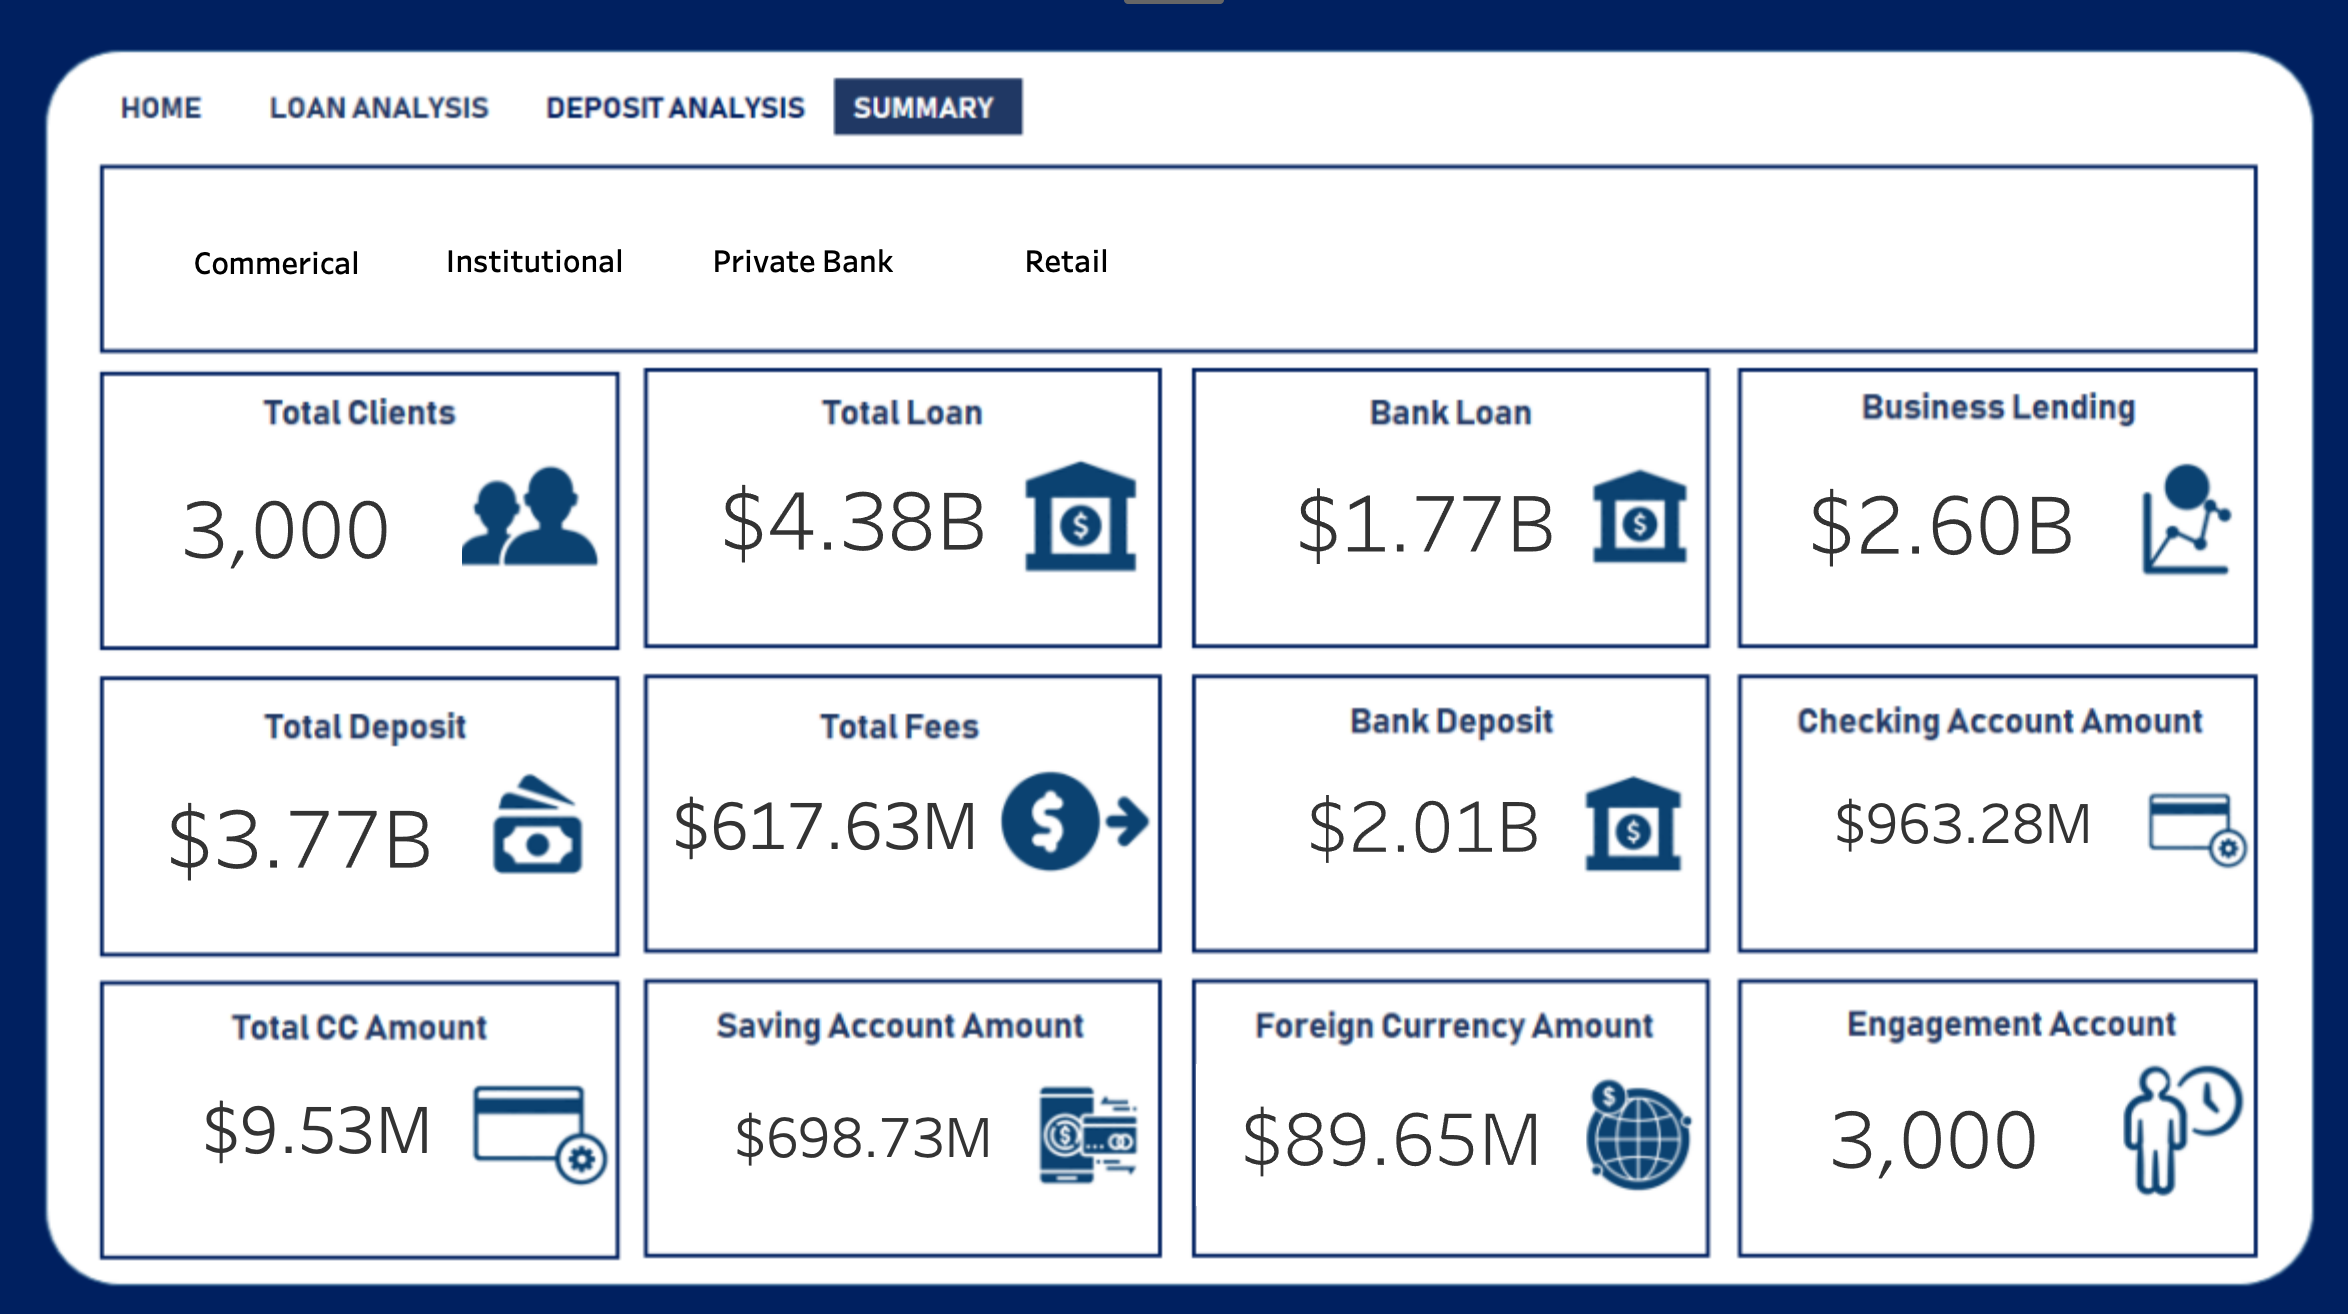

Layout of this report page (visuals, bound fields, positions):
{"tool":"tableau","page":{"name":"Summary","canvas":[1000,1000],"units":"permille","ordinal":3},"visuals":[{"type":"image","param":"Image/Summary.png","box":[6.3,10.8,987.4,978.4]},{"type":"text","box":[174.9,148.7,129.4,101.4]},{"type":"text","box":[284,148.7,129.4,101.4]},{"type":"text","box":[391.4,148.7,129.4,101.4]},{"type":"text","box":[70,150,129.4,101.4]},{"type":"worksheet","title":"T_loan","mark":"Automatic","box":[304.3,320.3,129.4,104]},{"type":"worksheet","title":"Client","mark":"Automatic","box":[67,321.6,130.8,112.2]},{"type":"worksheet","title":"BUSS_LENDG","mark":"Automatic","box":[745.3,329.7,132.6,91.9]},{"type":"worksheet","title":"BNK_LOAN","mark":"Automatic","box":[542.7,332.4,118,83.8]},{"type":"worksheet","title":"Total_Depo","mark":"Automatic","box":[62.2,541.9,151.3,114.9]},{"type":"worksheet","title":"Total_Fees","mark":"Automatic","box":[280.5,541.9,141.8,101.4]},{"type":"worksheet","title":"CC_AMT","mark":"Automatic","box":[746.3,547.3,148.2,87.8]},{"type":"worksheet","title":"BNK_DEOP","mark":"Automatic","box":[543,559.5,113.5,62.2]},{"type":"worksheet","title":"Client (2)","mark":"Automatic","box":[733.1,750,151.3,82.4]},{"type":"worksheet","title":"FF_CUR (2)","mark":"Automatic","box":[505.1,758.1,159.2,96]},{"type":"worksheet","title":"Total_CC_AMT","mark":"Automatic","box":[79.6,760.8,124.5,98.7]},{"type":"worksheet","title":"SAVG_ACC","mark":"Automatic","box":[316.8,777,111.9,68.9]}]}

Visuals, with their boxes on the dashboard's canvas, which has no fixed pixel size, in thousandths of its width and height (x1, y1, x2, y2). These are canvas units, not pixel positions in the 2348x1314 screenshot, which may show the page scaled, cropped or inside an application window:
image: select_region(6, 11, 994, 989)
text: select_region(175, 149, 304, 250)
text: select_region(284, 149, 413, 250)
text: select_region(391, 149, 521, 250)
text: select_region(70, 150, 199, 251)
"T_loan" worksheet: select_region(304, 320, 434, 424)
"Client" worksheet: select_region(67, 322, 198, 434)
"BUSS_LENDG" worksheet: select_region(745, 330, 878, 422)
"BNK_LOAN" worksheet: select_region(543, 332, 661, 416)
"Total_Depo" worksheet: select_region(62, 542, 214, 657)
"Total_Fees" worksheet: select_region(280, 542, 422, 643)
"CC_AMT" worksheet: select_region(746, 547, 894, 635)
"BNK_DEOP" worksheet: select_region(543, 560, 656, 622)
"Client (2)" worksheet: select_region(733, 750, 884, 832)
"FF_CUR (2)" worksheet: select_region(505, 758, 664, 854)
"Total_CC_AMT" worksheet: select_region(80, 761, 204, 860)
"SAVG_ACC" worksheet: select_region(317, 777, 429, 846)
